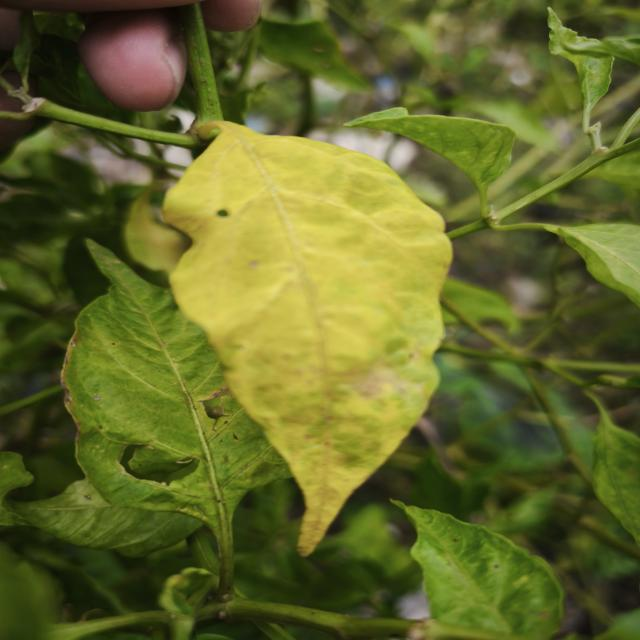Virus Kuning: (160, 119, 455, 557)
